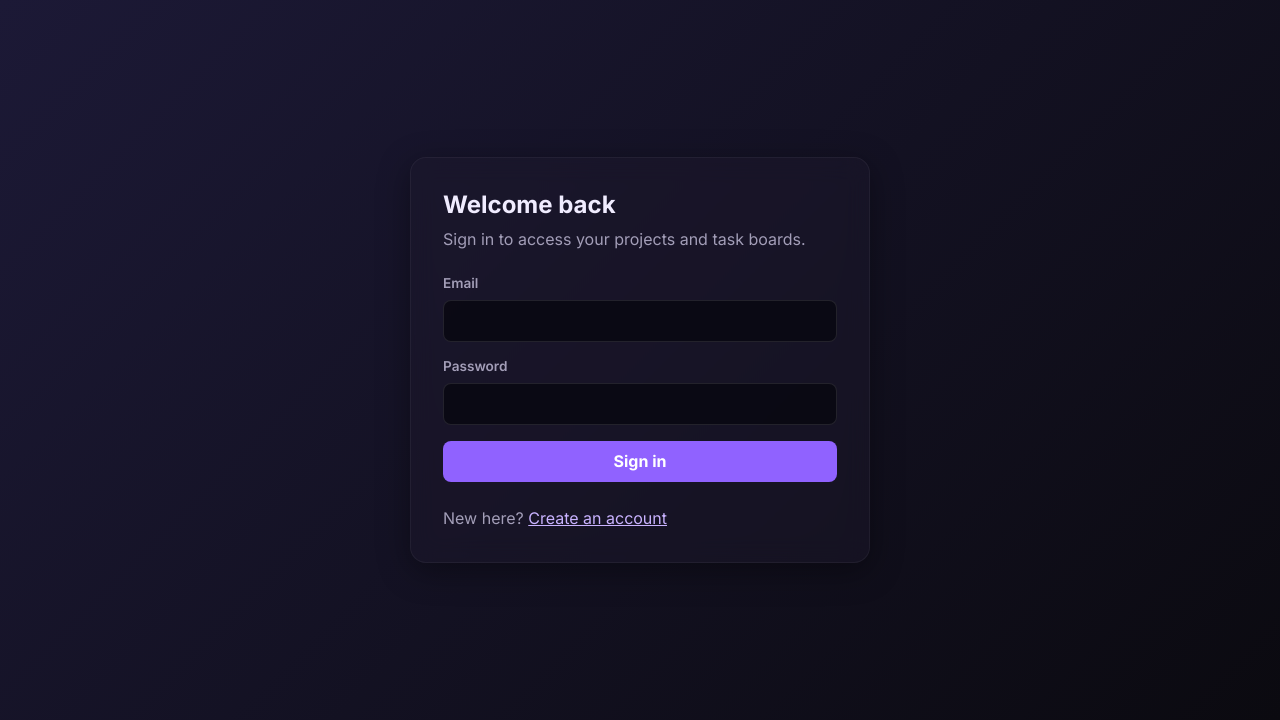
Scenario: Phase 3 application › submits login and redirects to the dashboard
This screenshot has width=1280, height=720.
Type "sanjay@example.com" into the field labelled "Email".
click(640, 321); type("sanjay@example.com")  # box [443,300,837,342]
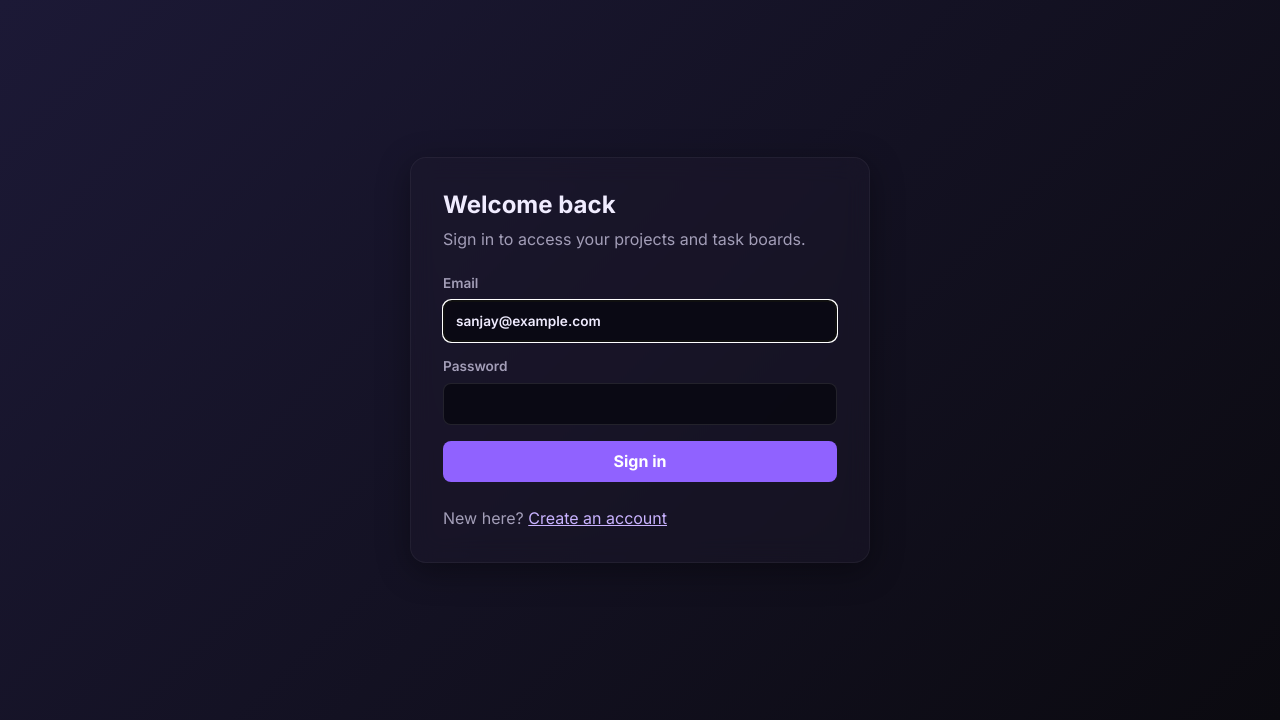
Type "password123" into the password field labelled "Password".
click(640, 404); type("password123")  # box [443,383,837,425]
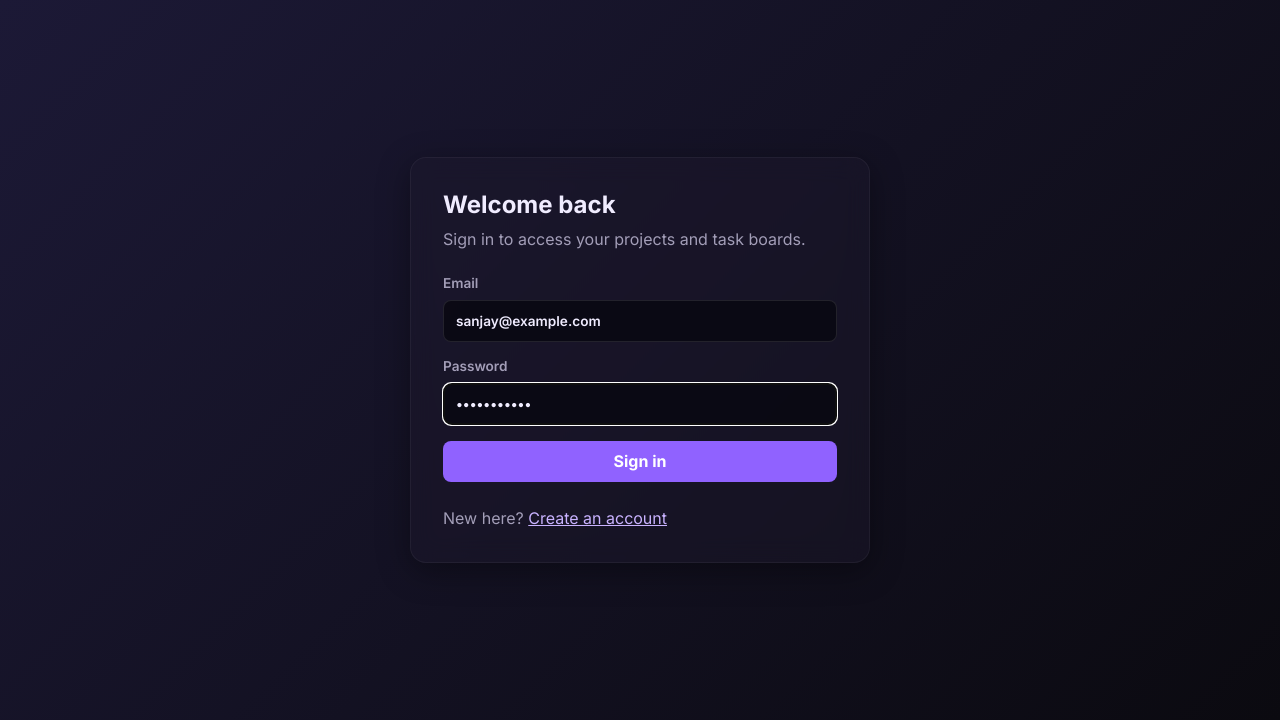
Click the button "Sign in".
click(640, 461)  # box [443,441,837,482]
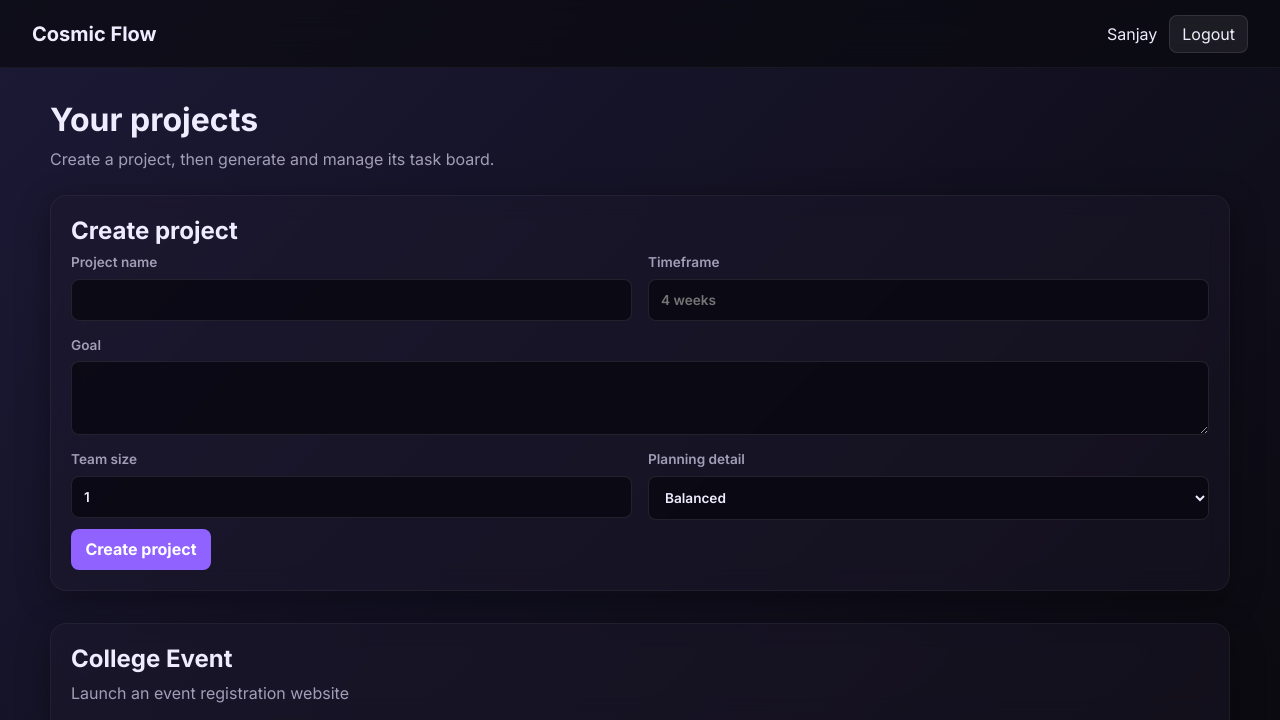
Now the heading "Your projects" is shown, box [50,100,258,139]
